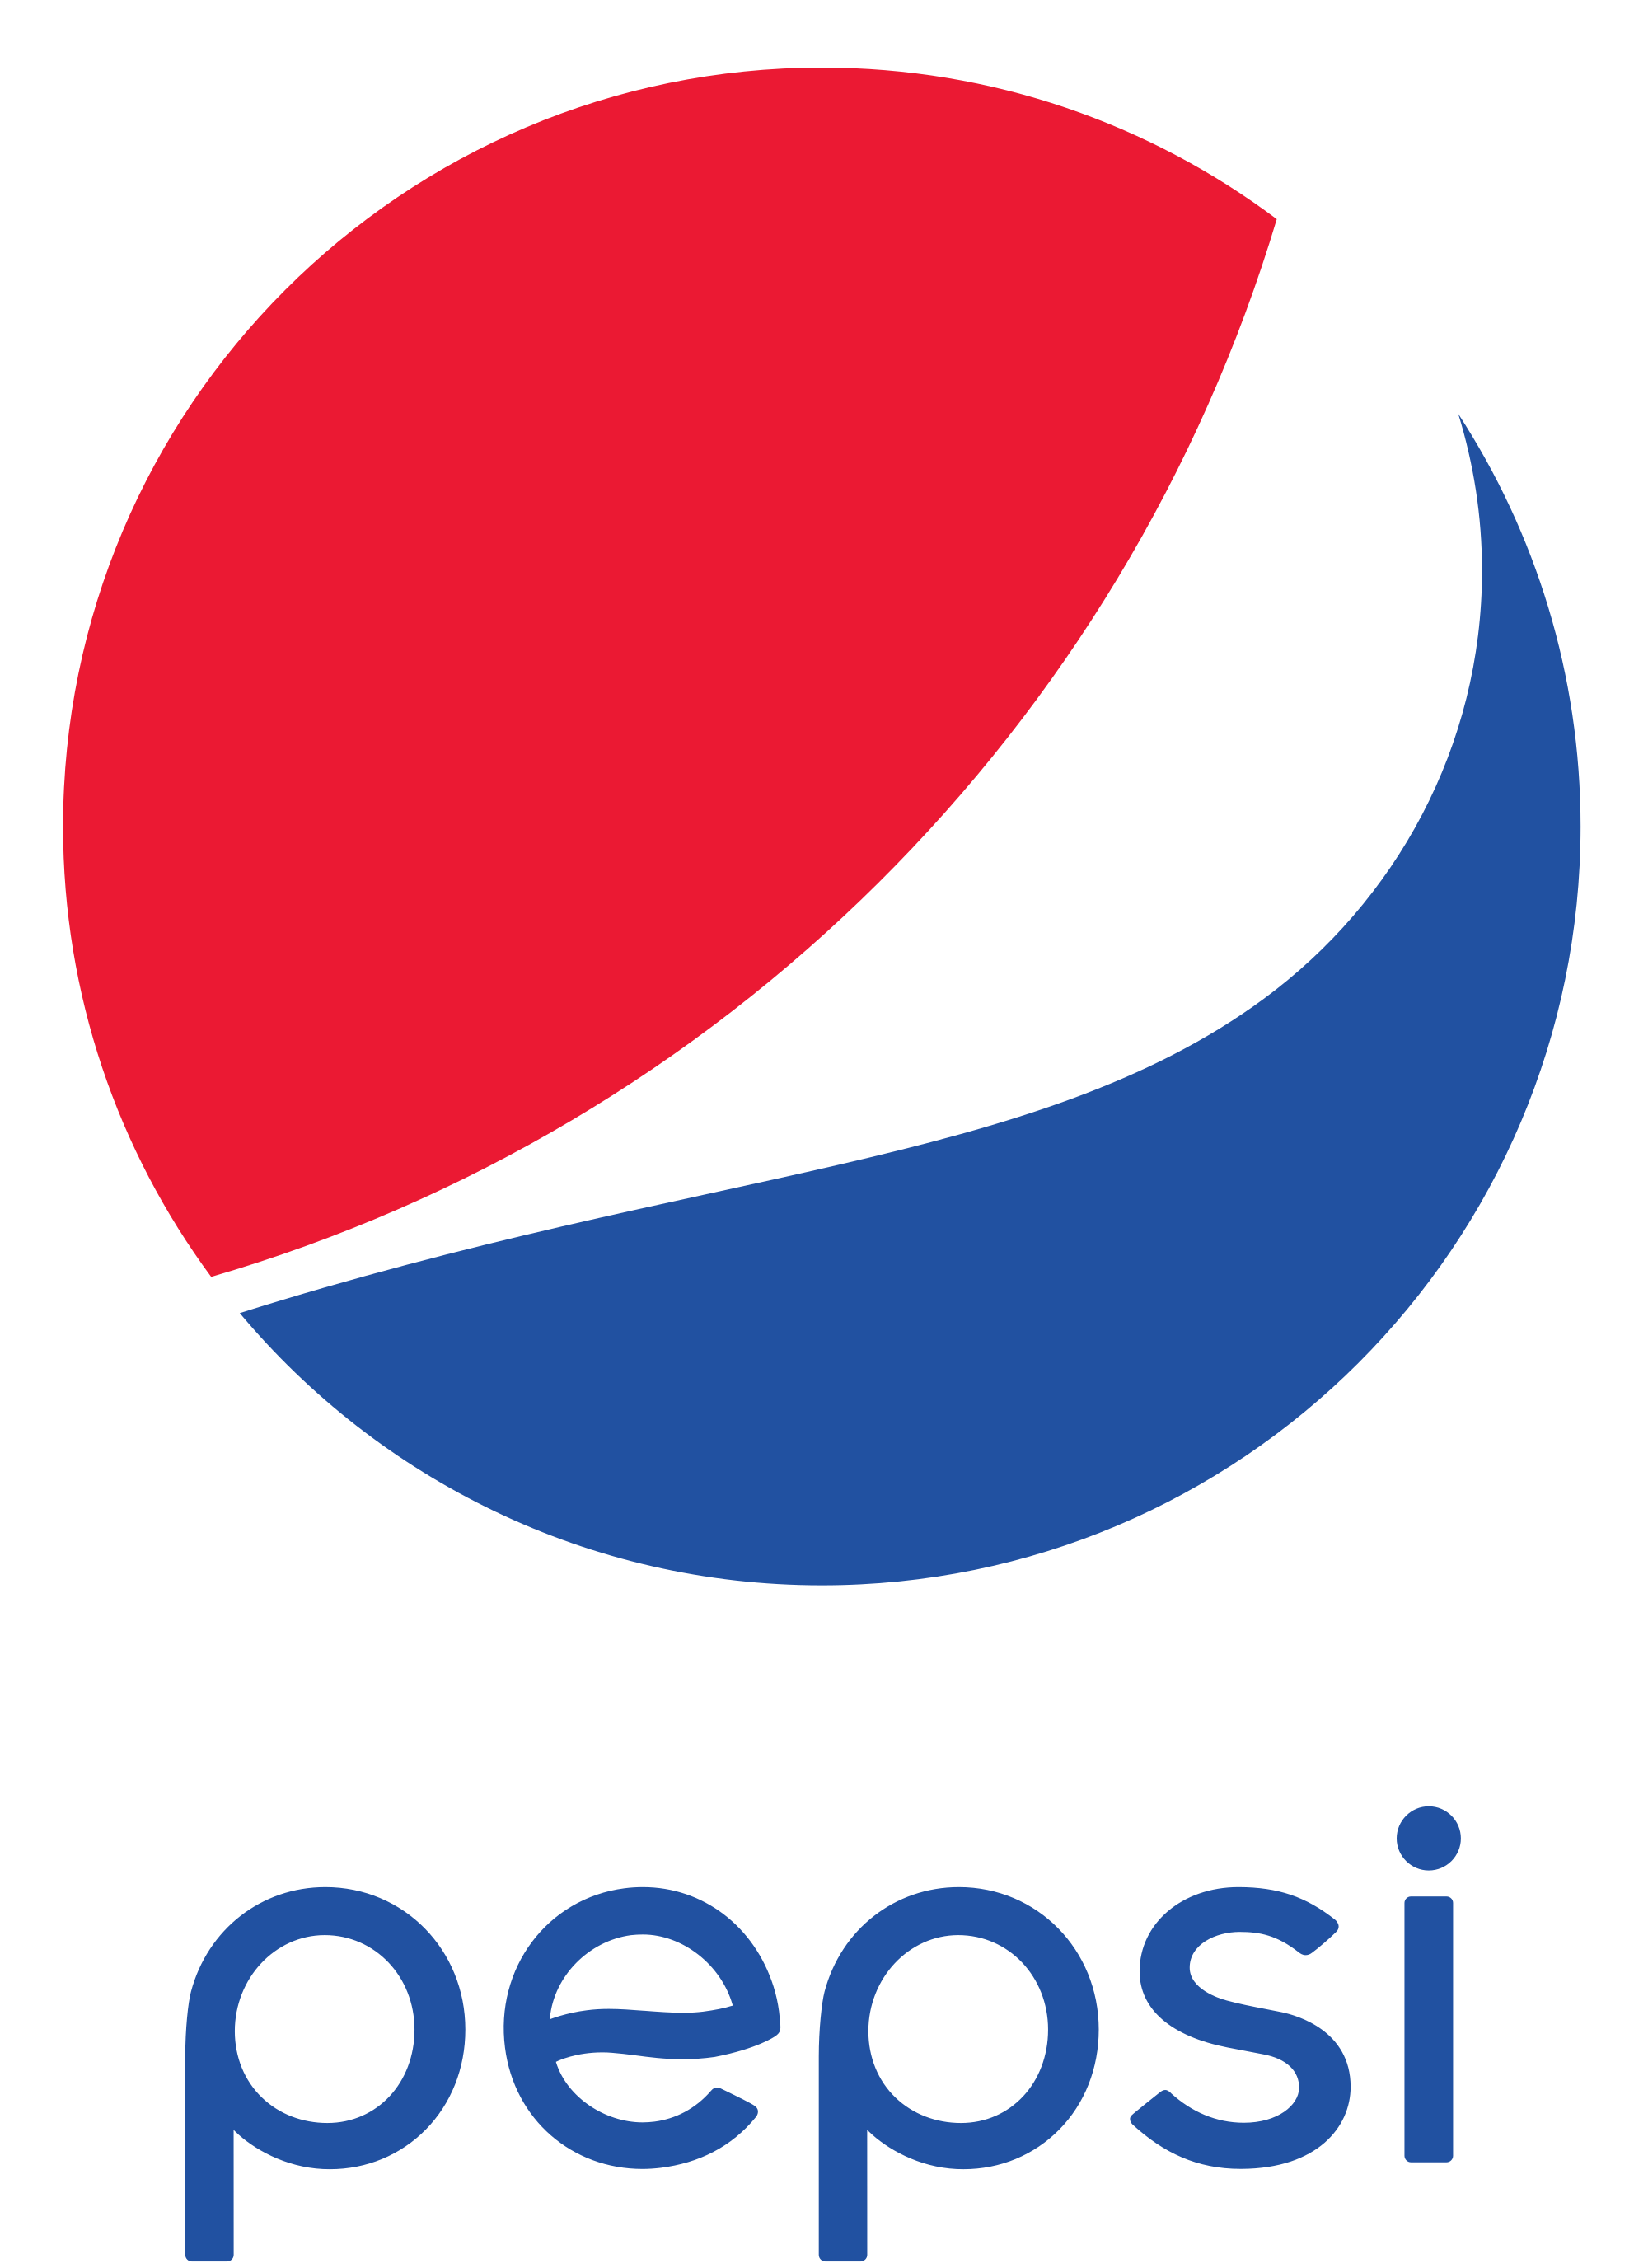pepsi: (16, 12, 1644, 1652)
